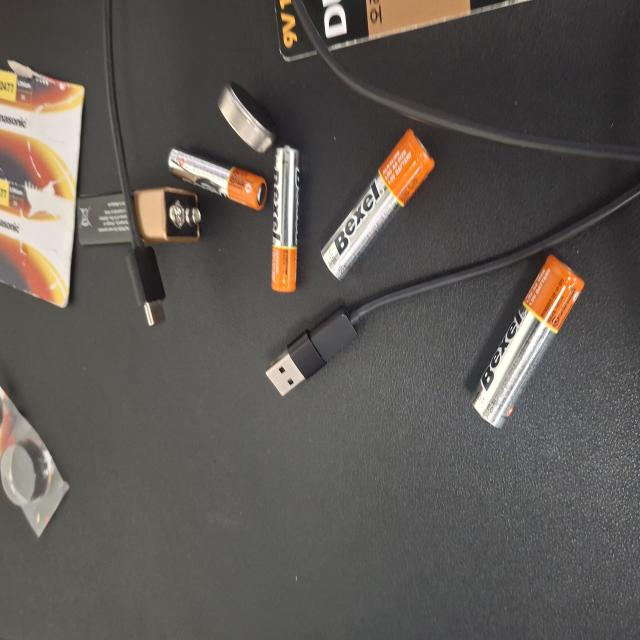9V: (294, 103, 340, 265)
AA: (269, 424, 382, 572)
AAA: (322, 225, 368, 358), (260, 364, 372, 401)
COIN: (364, 291, 420, 368)
